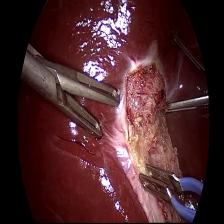Bipolar: (139, 157, 204, 224)
Grasper: (36, 56, 119, 140), (164, 33, 212, 118)
